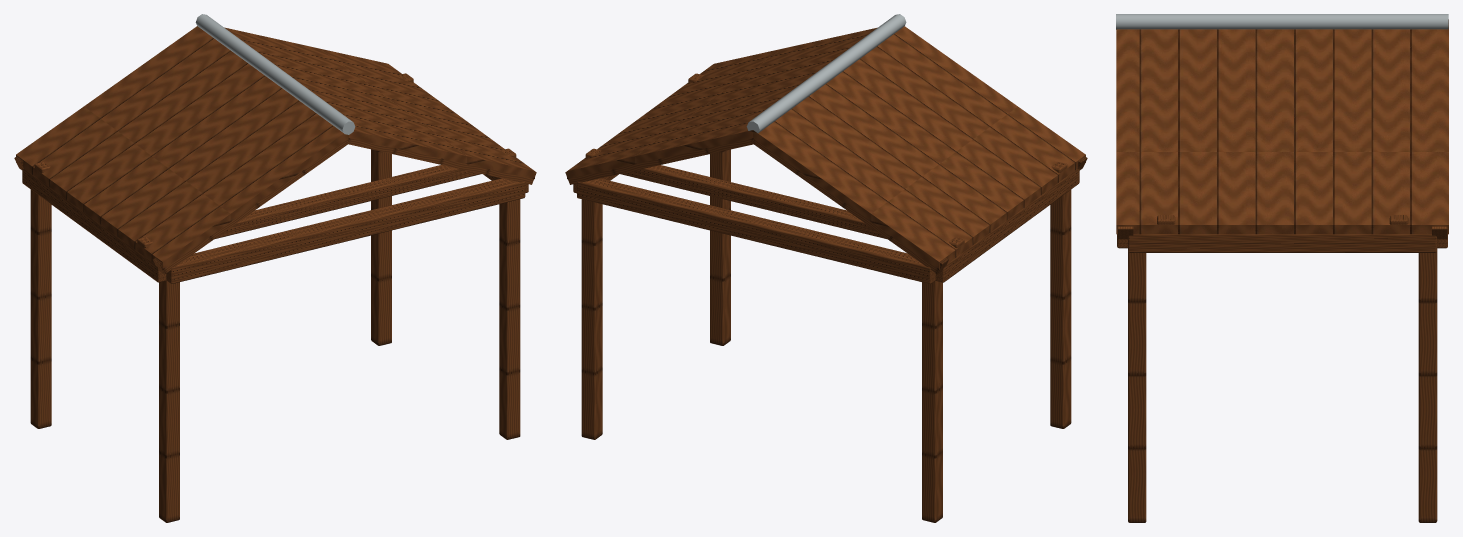
File: roadside-survival-stops-picnic-shelter-3bfedd67__23545.glb
The picture shows the model from 3 angles, left to right: view 1: azimuth 30°, elevation 25°; view 2: azimuth 150°, elevation 25°; view 3: azimuth 270°, elevation 25°; orthographic projection. The views are drawn at different scales.
Visible parts, largest first — view 1: picnic-shelter; view 2: picnic-shelter; view 3: picnic-shelter.
Boxes of the visible parts, x1,y1,x2,y2 form: picnic-shelter: (14, 14, 536, 522); picnic-shelter: (565, 14, 1087, 522); picnic-shelter: (1116, 14, 1448, 522).
Size of the model in its own units: 3.19 by 2.93 by 2.15.
Materials: 2 (1 with a texture image).
